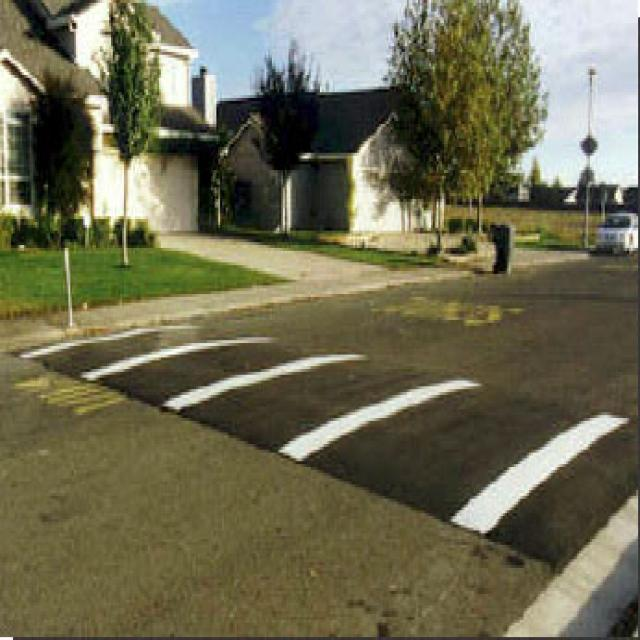speedbreaker: (48, 316, 635, 550)
